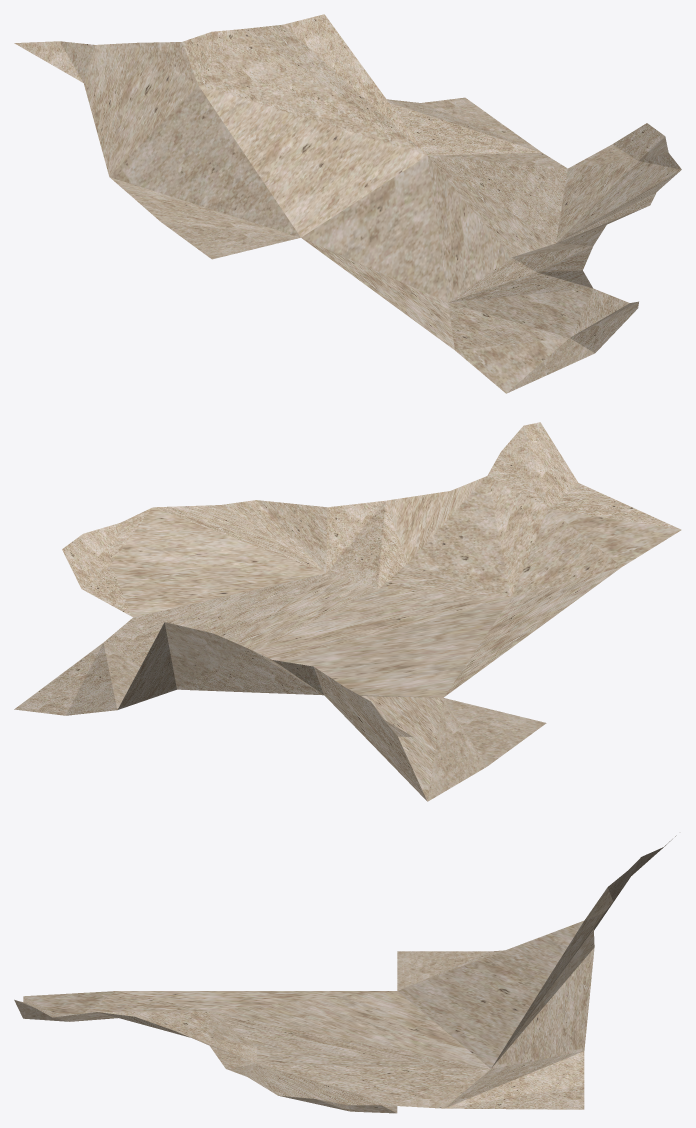
Rendered from lodseabed083.obj.
3 renders of one model, top to bottom at view 1: azimuth 30°, elevation 25°; view 2: azimuth 150°, elevation 25°; view 3: azimuth 270°, elevation 25°, orthographic. The views are drawn at different scales.
Visible parts, largest first — view 1: lodseabed083; view 2: lodseabed083; view 3: lodseabed083.
Boxes of the visible parts, bbox=[...] form: lodseabed083: bbox=[14, 14, 681, 393]; lodseabed083: bbox=[14, 422, 681, 801]; lodseabed083: bbox=[14, 835, 676, 1113].
Size of the model in its own units: 260 by 62.66 by 353.
